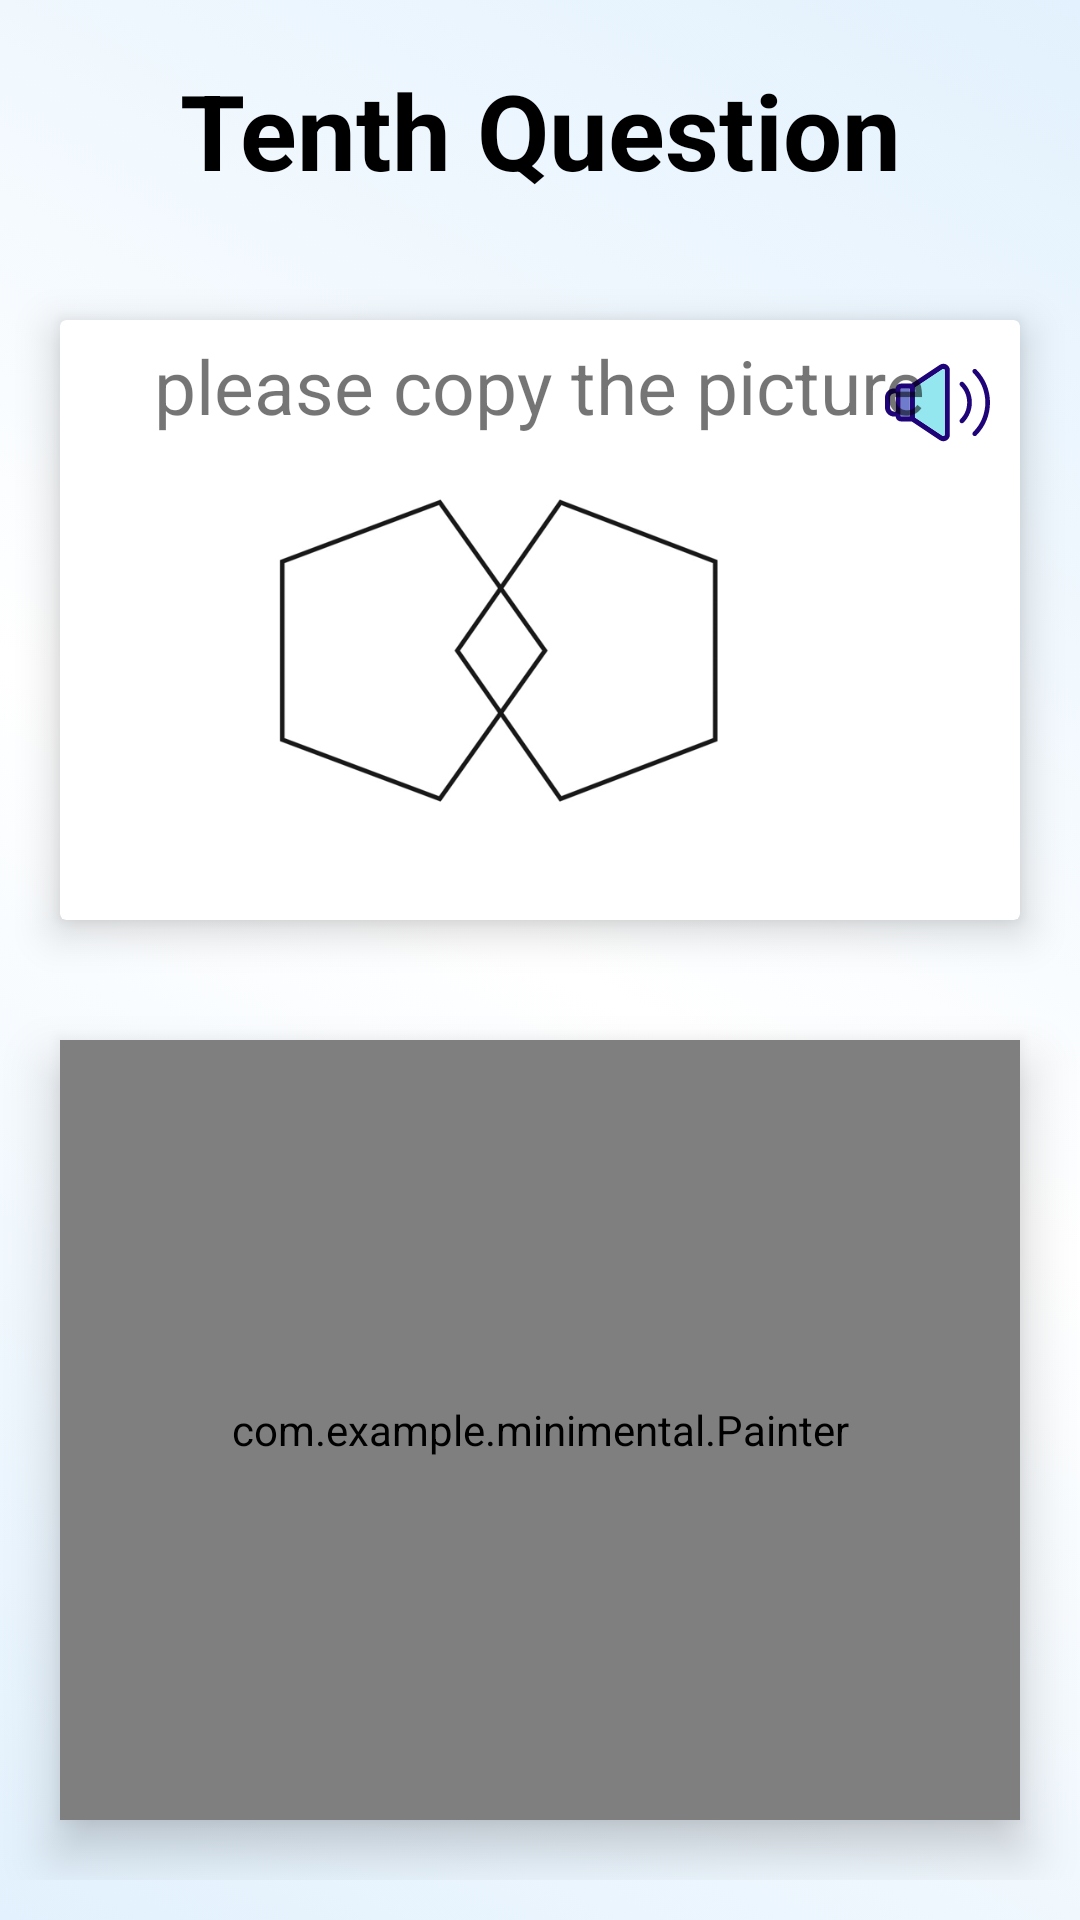

Icons on this 1080w x 1920h Android screen, each with the point to tap as [x,y]:
speaker: [928,402]
